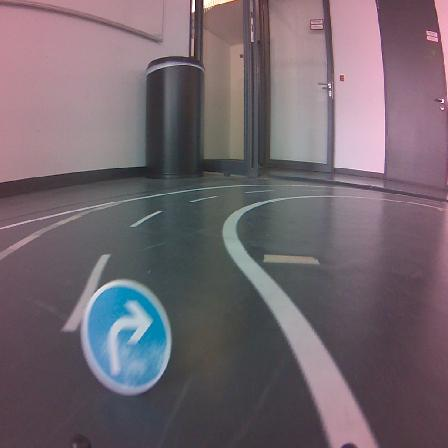RIGHT_TURN: (81, 280, 171, 394)
